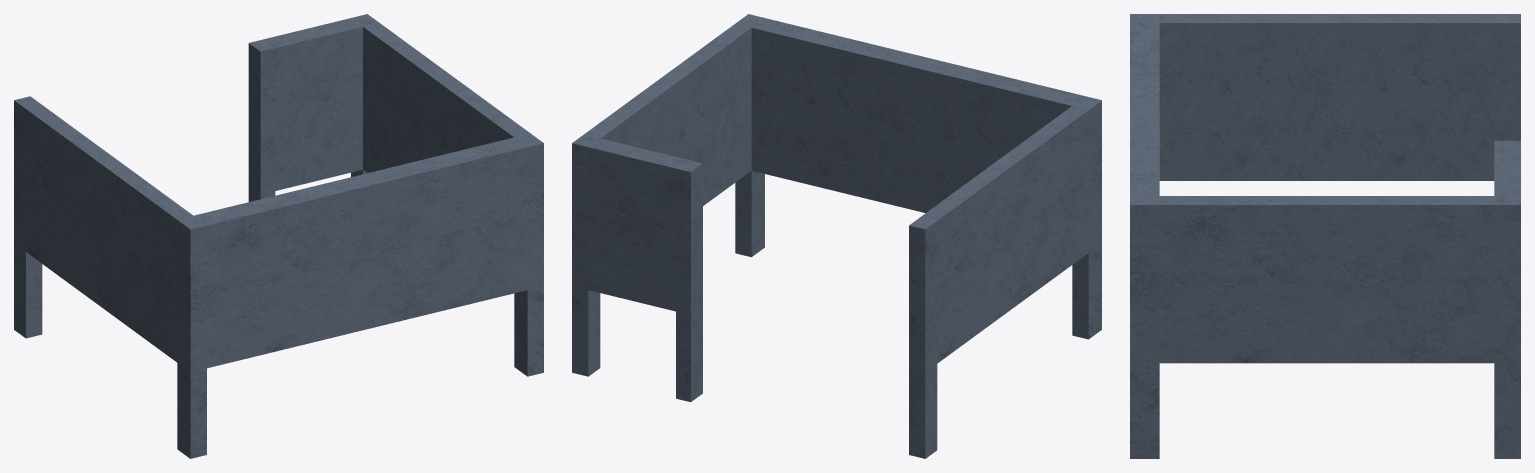
Rendered from cubicle.fbx.
The picture shows the model from 3 angles, left to right: view 1: azimuth 30°, elevation 25°; view 2: azimuth 150°, elevation 25°; view 3: azimuth 270°, elevation 25°; orthographic projection. The views are drawn at different scales.
Visible parts, largest first — view 1: cubic; view 2: cubic; view 3: cubic.
Part boxes in pixels (<box>): cubic: <box>14,14,543,458</box>; cubic: <box>572,14,1101,458</box>; cubic: <box>1130,14,1520,458</box>.
Bounding box in the file's own units: 599 × 372 × 518.
Materials: 1 (1 with a texture image).
